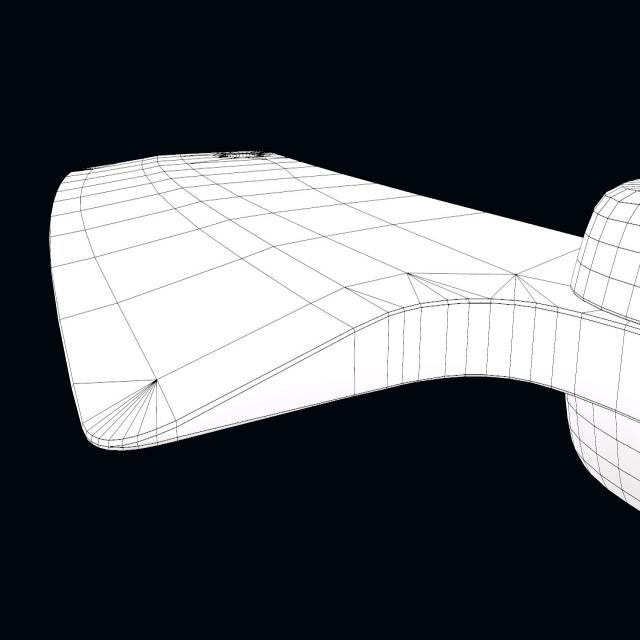cleaver: (52, 152, 640, 510)
